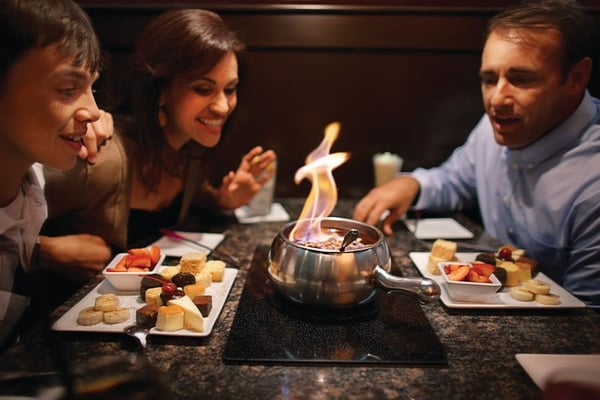sushi: (267, 215, 392, 308)
